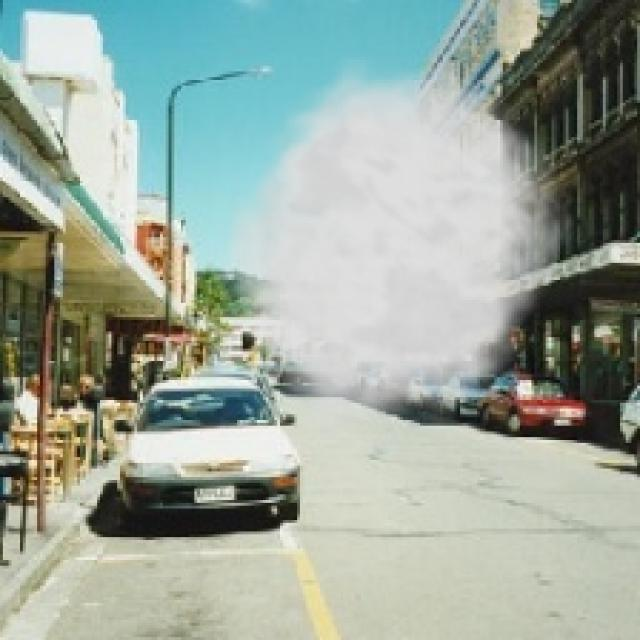smoke: (214, 54, 580, 440)
